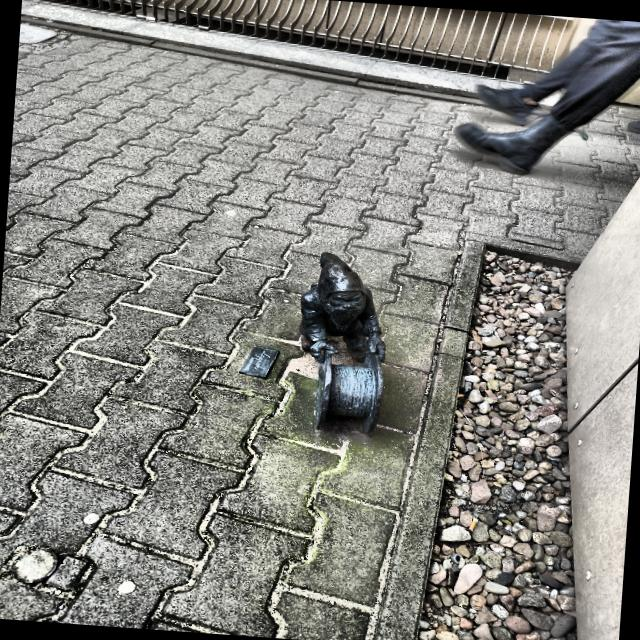Lappek: (299, 255, 383, 435)
